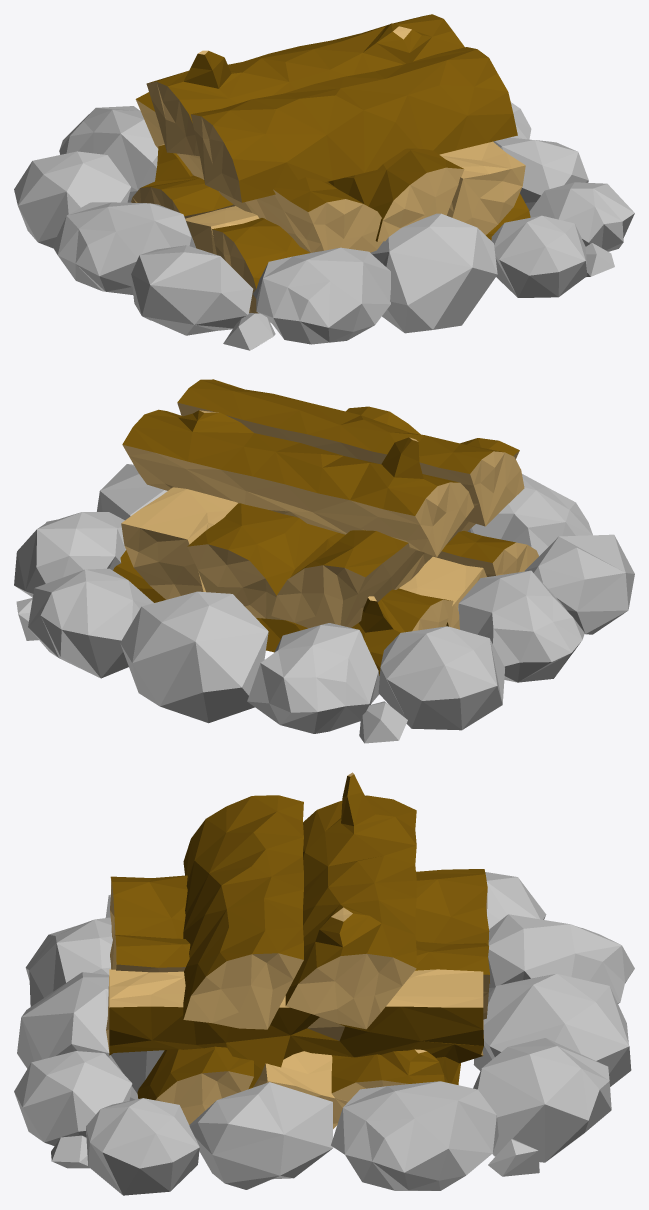
File: Campfire_Platform.fbx
3 renders of one model, top to bottom at view 1: azimuth 30°, elevation 25°; view 2: azimuth 150°, elevation 25°; view 3: azimuth 270°, elevation 25°, orthographic. The views are drawn at different scales.
Visible parts, largest first — view 1: Campfire_Platform; view 2: Campfire_Platform; view 3: Campfire_Platform.
Boxes of the visible parts, x1=… form: Campfire_Platform: x1=14, y1=14, x2=634, y2=350; Campfire_Platform: x1=14, y1=379, x2=634, y2=743; Campfire_Platform: x1=14, y1=772, x2=634, y2=1195.
Bounding box in the file's own units: 34.46 × 16.02 × 32.08.
